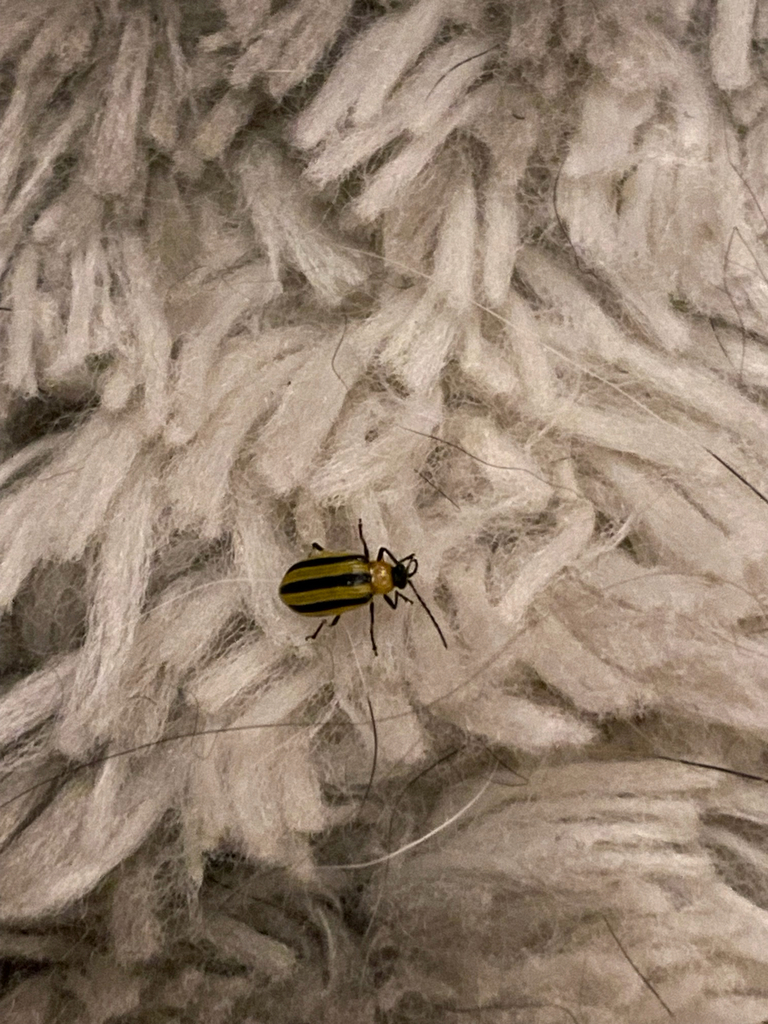potato_beetle: (216, 475, 496, 702)
